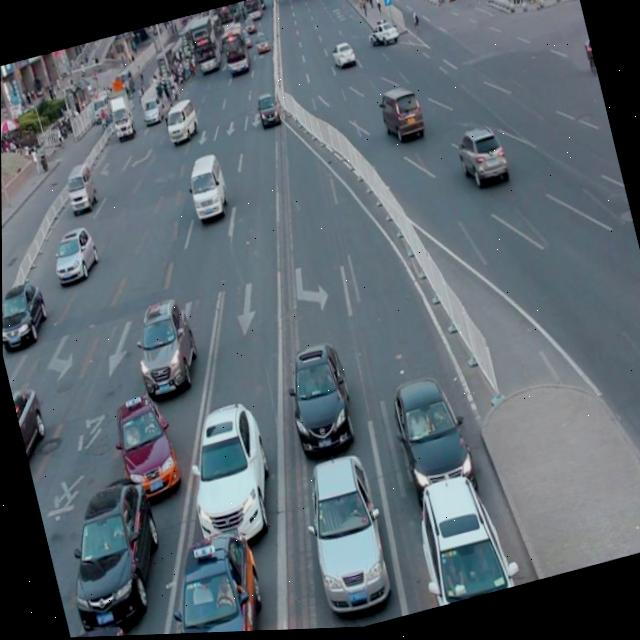car: (48, 467, 175, 636), (290, 443, 397, 620), (171, 393, 283, 553), (404, 462, 517, 611), (146, 518, 274, 636), (383, 364, 474, 503), (275, 335, 360, 460), (106, 384, 184, 504), (123, 289, 204, 401), (451, 124, 510, 196), (45, 221, 103, 290), (2, 275, 52, 351), (9, 379, 51, 459), (375, 83, 425, 150), (67, 616, 139, 638)
truck: (182, 153, 232, 225), (61, 160, 99, 215)
